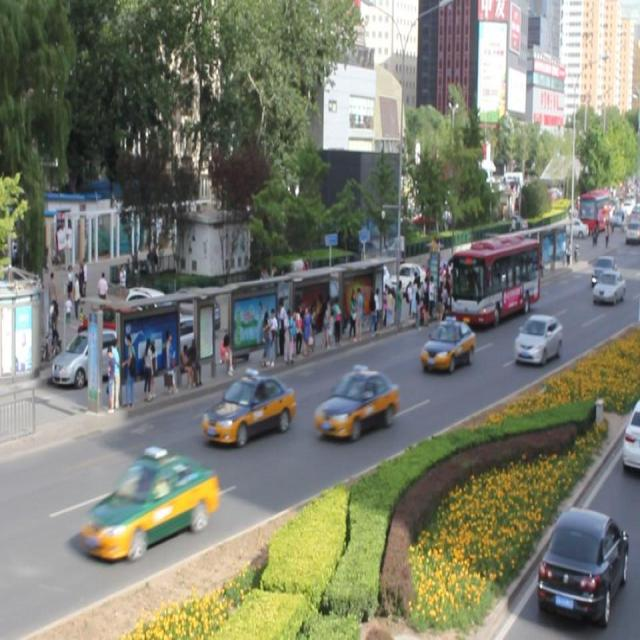car: (81, 453, 218, 560), (201, 373, 294, 447), (314, 367, 399, 441), (420, 319, 475, 372), (512, 314, 561, 364), (591, 266, 623, 304), (590, 255, 616, 285)
van: (447, 232, 538, 326)
